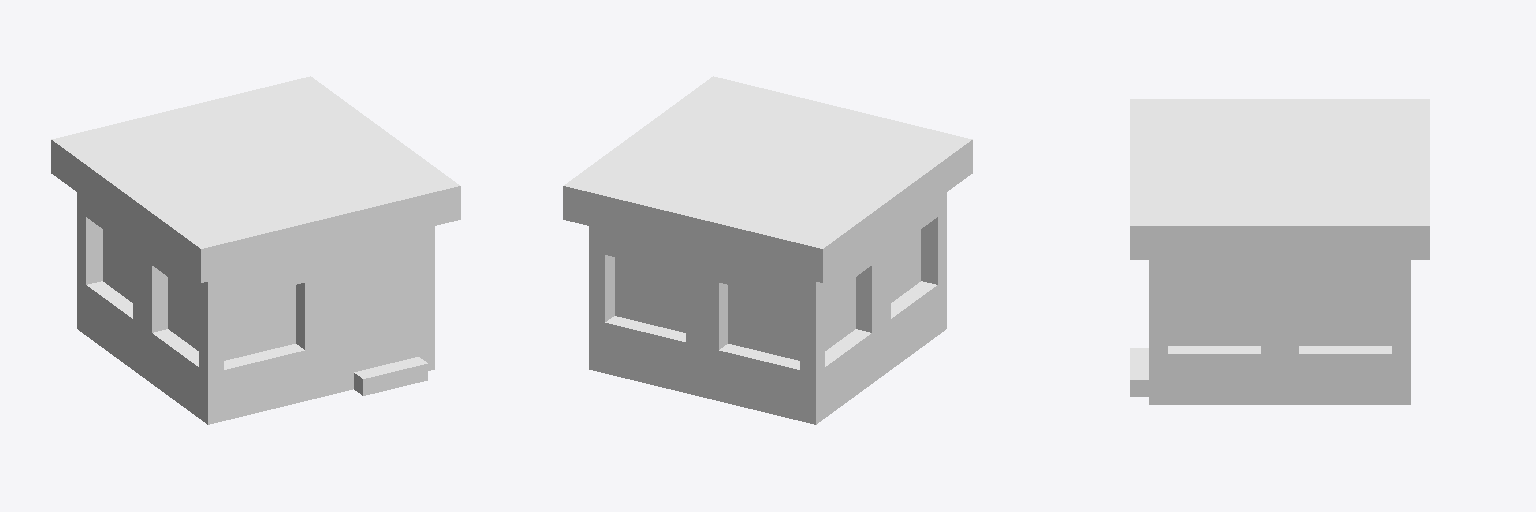
Rendered from building3.vox.obj.
3 views of the same model, side by side, from view 1: azimuth 30°, elevation 25°; view 2: azimuth 150°, elevation 25°; view 3: azimuth 270°, elevation 25° (orthographic).
Visible parts, largest first — view 1: object 1; view 2: object 1; view 3: object 1.
Part boxes in pixels (left/top/right/bottom): object 1: left=51, top=76, right=460, bottom=424; object 1: left=563, top=76, right=972, bottom=424; object 1: left=1130, top=99, right=1429, bottom=404.
Size of the model in its own units: 1.6 by 1.1 by 1.6.